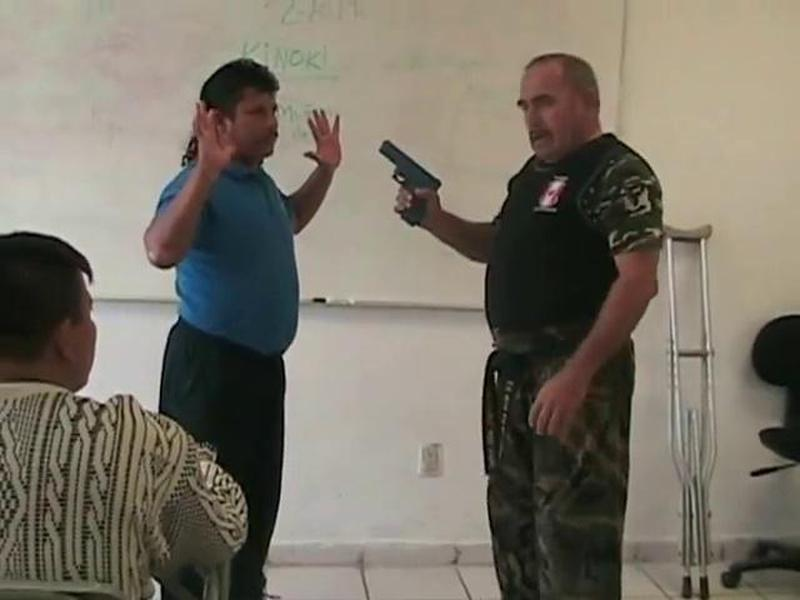Pistola: (362, 132, 453, 251)
